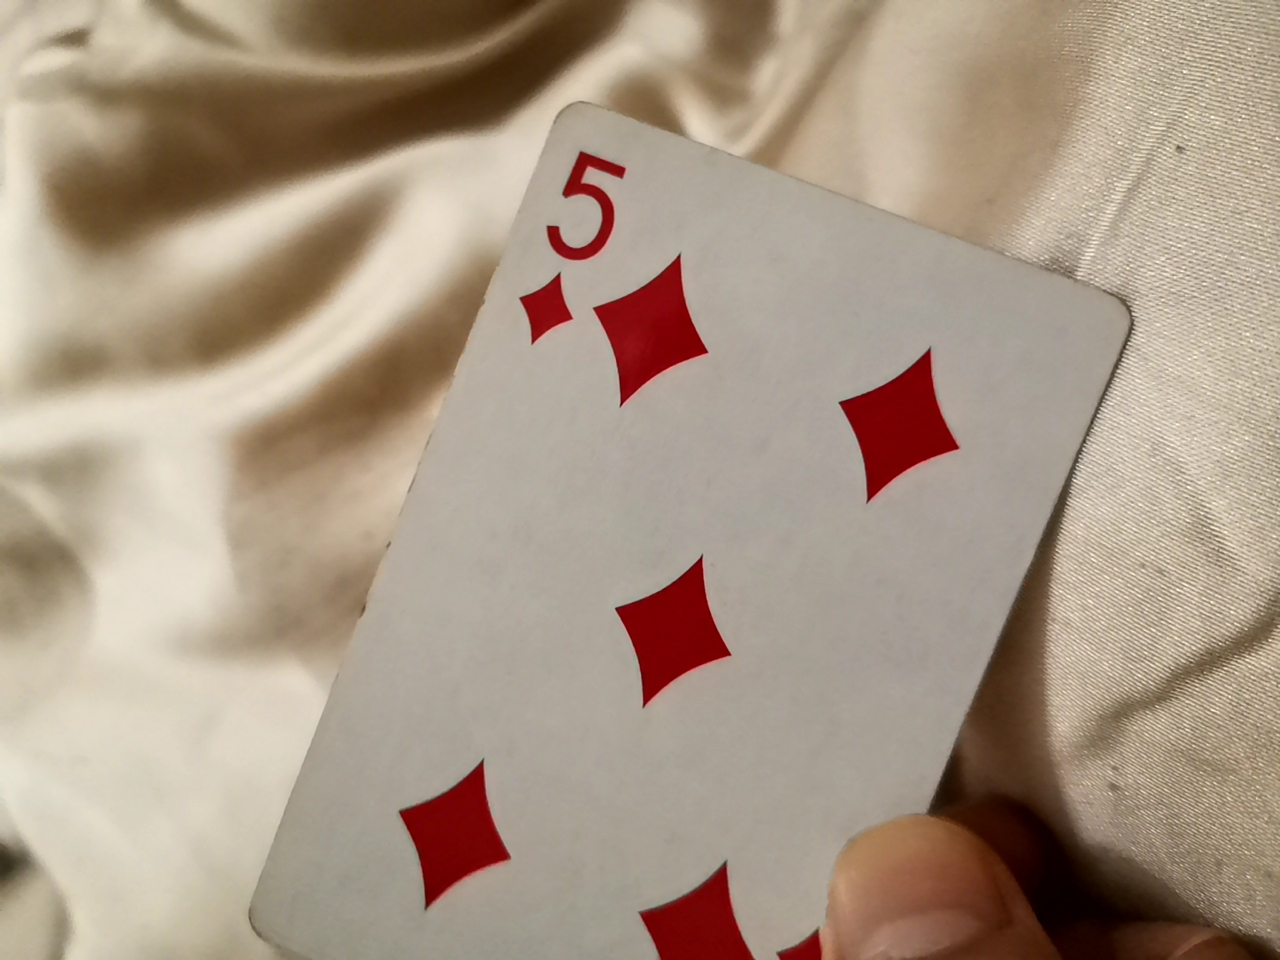fk 5: (243, 53, 1119, 960)
